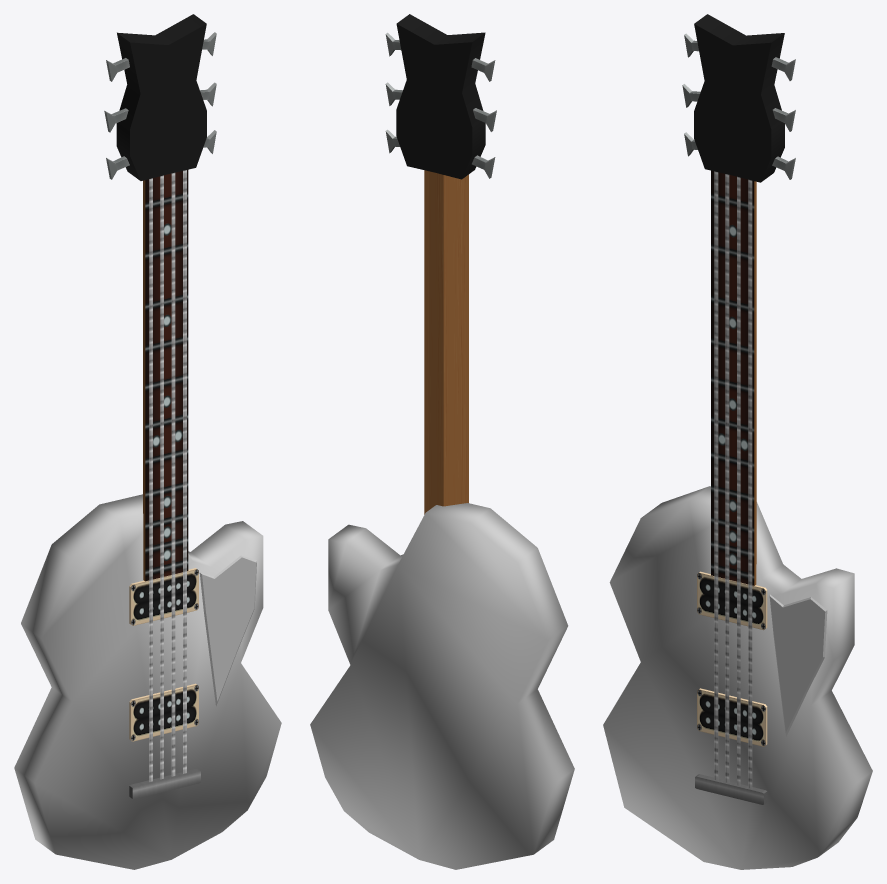
File: Guitar_C.FBX
The picture shows the model from 3 angles, left to right: view 1: azimuth 30°, elevation 25°; view 2: azimuth 150°, elevation 25°; view 3: azimuth 330°, elevation 25°; orthographic projection.
Parts seen in each view (by area): view 1: Guitar; view 2: Guitar; view 3: Guitar.
Part boxes in pixels (bbox=[...]): Guitar: bbox=[14, 14, 281, 869]; Guitar: bbox=[310, 14, 574, 869]; Guitar: bbox=[603, 14, 872, 869].
Bounding box in the file's own units: 64.57 × 208 × 10.83.
